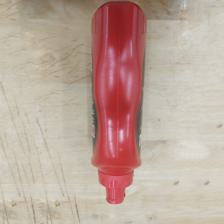Tuong: (90, 1, 142, 205)
